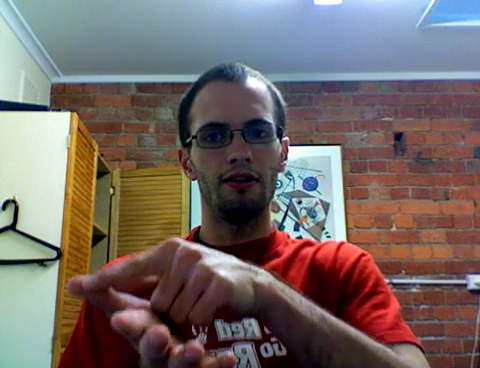A: (66, 234, 277, 368)
